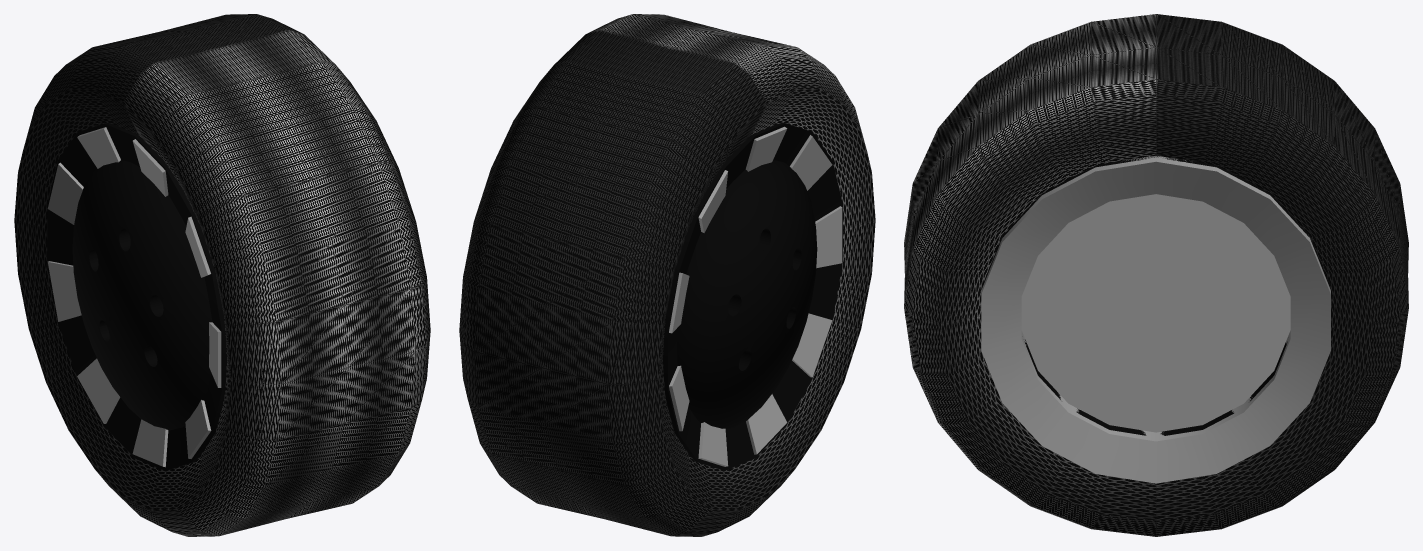
The model's file is llanta.obj.
3 views of the same model, side by side, from view 1: azimuth 30°, elevation 25°; view 2: azimuth 150°, elevation 25°; view 3: azimuth 270°, elevation 25° (orthographic).
Visible parts, largest first — view 1: Torus01, Sphere01, Tube01, Tube02; view 2: Torus01, Sphere01, Tube01, Tube02; view 3: Torus01, Cylinder01, Tube02, Tube01.
Boxes of the visible parts, box(x1,y1,x2,y2) form: Torus01: box(14, 14, 430, 536); Sphere01: box(72, 160, 212, 430); Tube01: box(47, 123, 226, 470); Tube02: box(47, 127, 221, 467); Torus01: box(459, 14, 875, 536); Sphere01: box(677, 160, 817, 429); Tube01: box(663, 122, 842, 470); Tube02: box(669, 126, 842, 466); Torus01: box(904, 14, 1408, 536); Cylinder01: box(1021, 194, 1290, 432); Tube02: box(981, 156, 1330, 483); Tube01: box(981, 155, 1330, 435).
Bounding box in the file's own units: 55.91 × 122 × 122.
5 materials, 1 textured.
